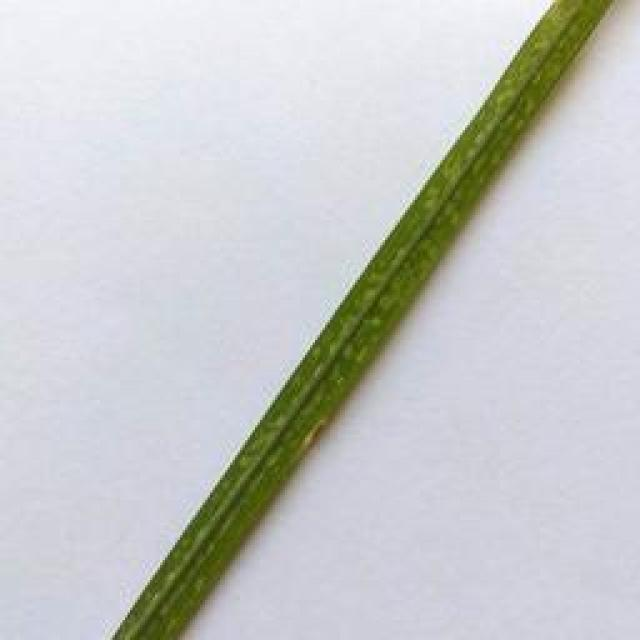Rice_Blast: (292, 416, 326, 456)
